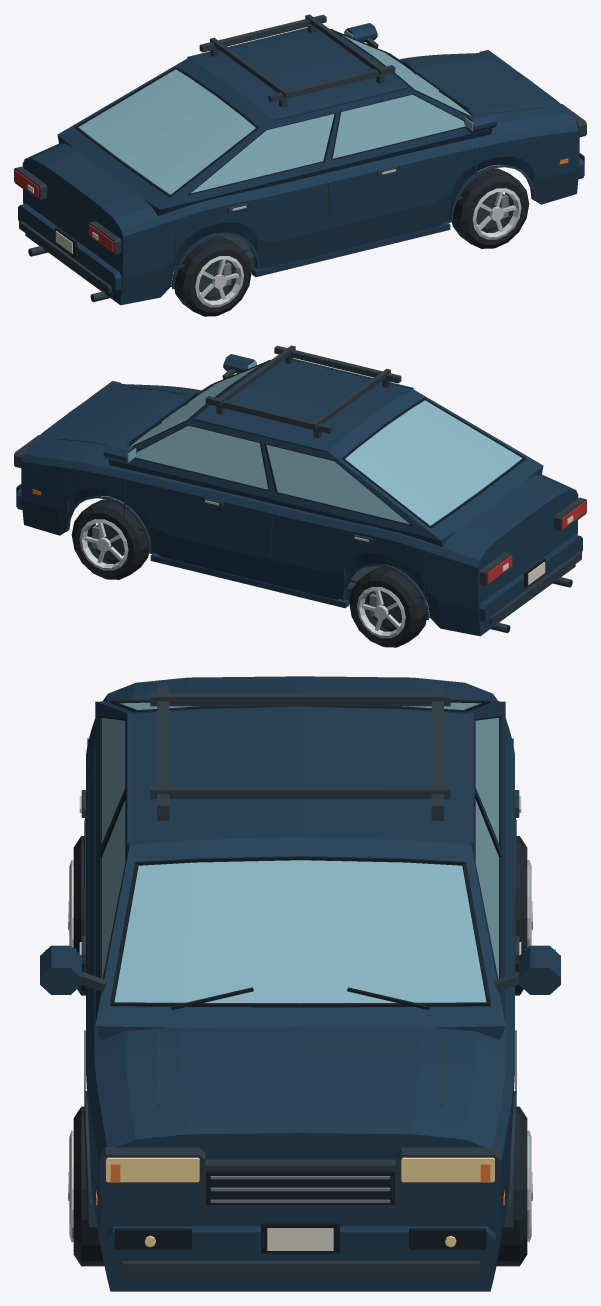
File: b03_sport_coupe_crossover.glb
The picture shows the model from 3 angles, top to bottom: view 1: azimuth 30°, elevation 25°; view 2: azimuth 150°, elevation 25°; view 3: azimuth 270°, elevation 25°; orthographic projection. The views are drawn at different scales.
Parts seen in each view (by area): view 1: b03_sport_coupe_crossover; view 2: b03_sport_coupe_crossover; view 3: b03_sport_coupe_crossover.
Boxes of the visible parts, bbox=[...] form: b03_sport_coupe_crossover: bbox=[14, 14, 586, 316]; b03_sport_coupe_crossover: bbox=[14, 345, 586, 647]; b03_sport_coupe_crossover: bbox=[40, 676, 560, 1291].
Size of the model in its own units: 5.02 by 1.9 by 2.37.
